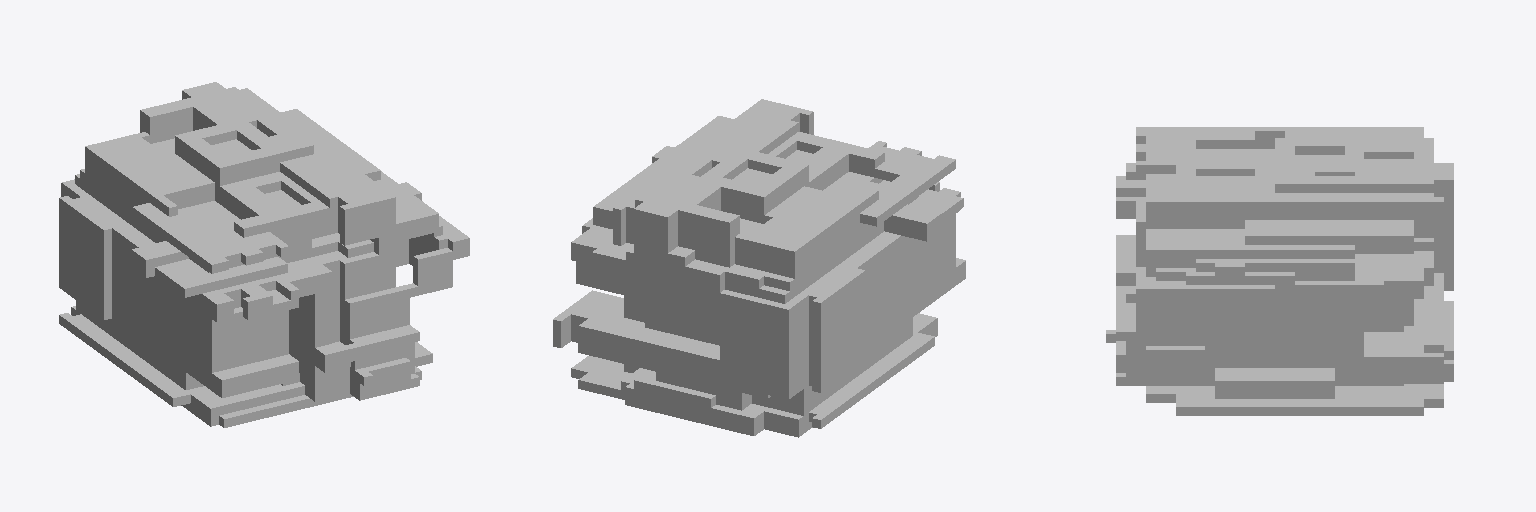
File: stone.obj
3 views of the same model, side by side, from view 1: azimuth 30°, elevation 25°; view 2: azimuth 150°, elevation 25°; view 3: azimuth 270°, elevation 25° (orthographic).
Parts seen in each view (by area): view 1: object 1; view 2: object 1; view 3: object 1.
Part boxes in pixels (bbox=[...]): object 1: bbox=[59, 82, 469, 427]; object 1: bbox=[553, 99, 965, 437]; object 1: bbox=[1106, 127, 1453, 415].
Bounding box in the file's own units: 3.3 × 2.2 × 3.5.